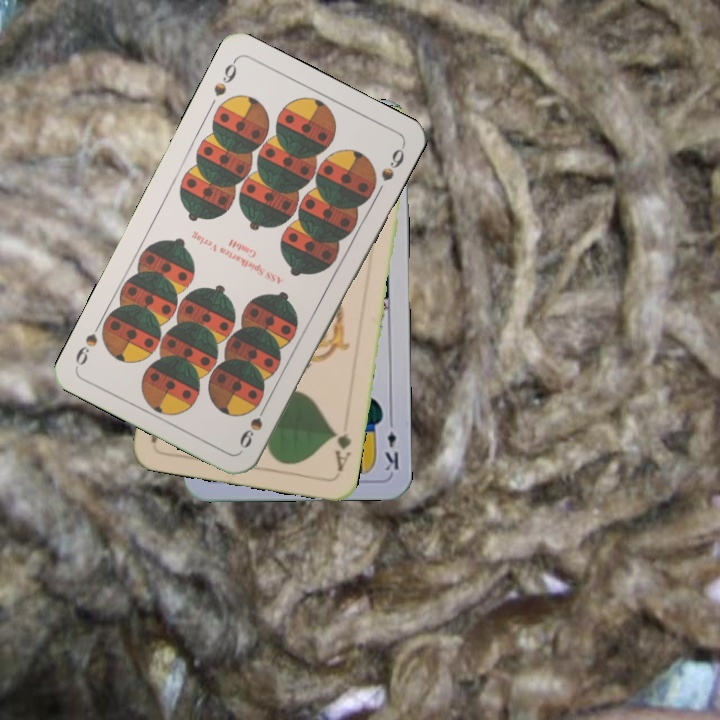EK: (381, 414, 401, 473)
GA: (329, 427, 354, 474)
S9: (235, 398, 271, 451), (209, 55, 240, 99)
